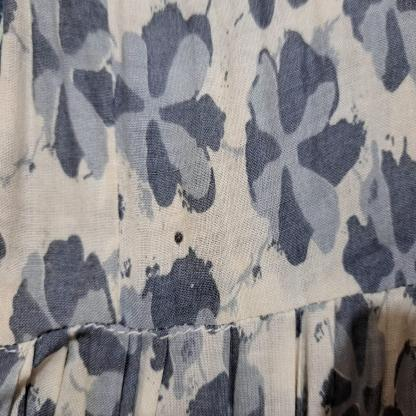spot: (170, 226, 186, 253)
